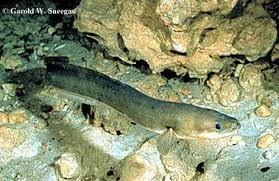Mudfish: (37, 59, 242, 157)
